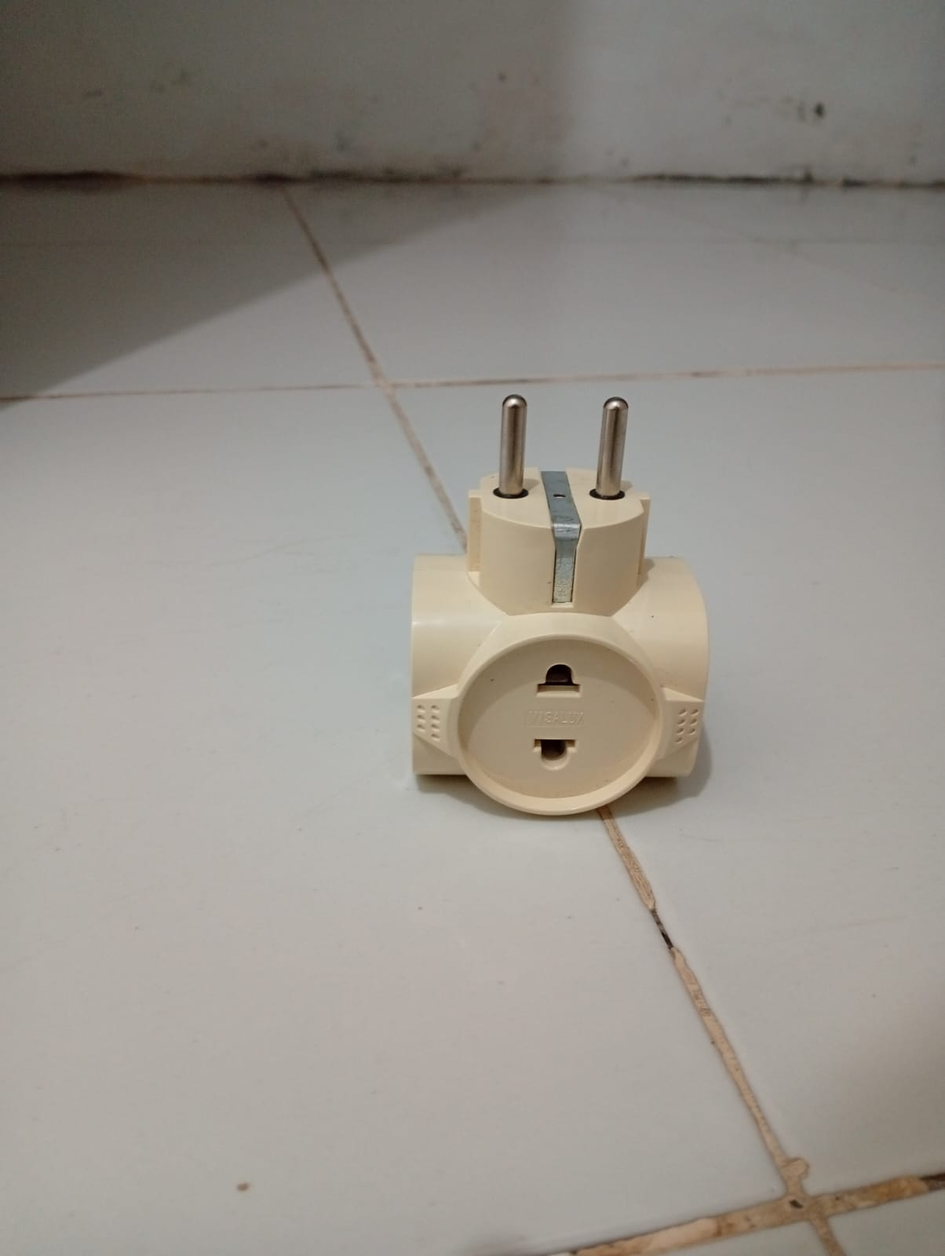Colokan: (358, 381, 752, 827)
